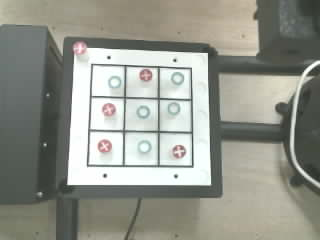blue circle: (136, 105, 149, 118), (138, 140, 151, 152), (171, 72, 183, 84), (108, 76, 120, 88), (168, 102, 180, 114)
board: (67, 45, 213, 186)
cells: (89, 132, 122, 165), (160, 133, 192, 165), (125, 133, 157, 165), (90, 98, 123, 129), (125, 99, 157, 130), (92, 65, 124, 96), (160, 100, 191, 131), (126, 67, 157, 97), (160, 68, 190, 98)
grid: (87, 64, 193, 167)
red cross: (102, 103, 115, 116), (172, 145, 185, 158), (73, 41, 86, 54), (98, 139, 111, 152), (139, 69, 152, 80)
